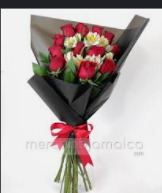RedRose: (77, 61, 98, 82), (87, 44, 106, 56), (51, 55, 62, 73), (77, 19, 88, 37), (102, 57, 114, 72), (49, 46, 64, 58), (61, 21, 71, 39), (54, 37, 69, 48), (74, 45, 87, 56), (110, 44, 123, 55), (93, 22, 101, 39), (106, 28, 113, 43)
